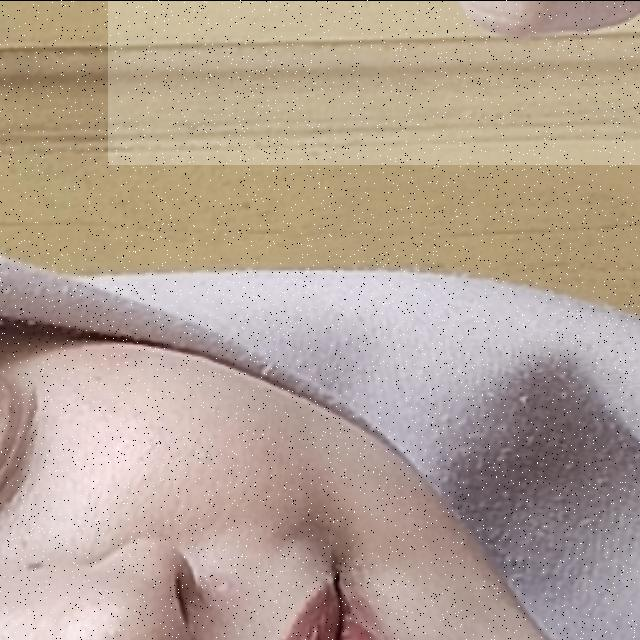baik: (108, 0, 640, 164)
